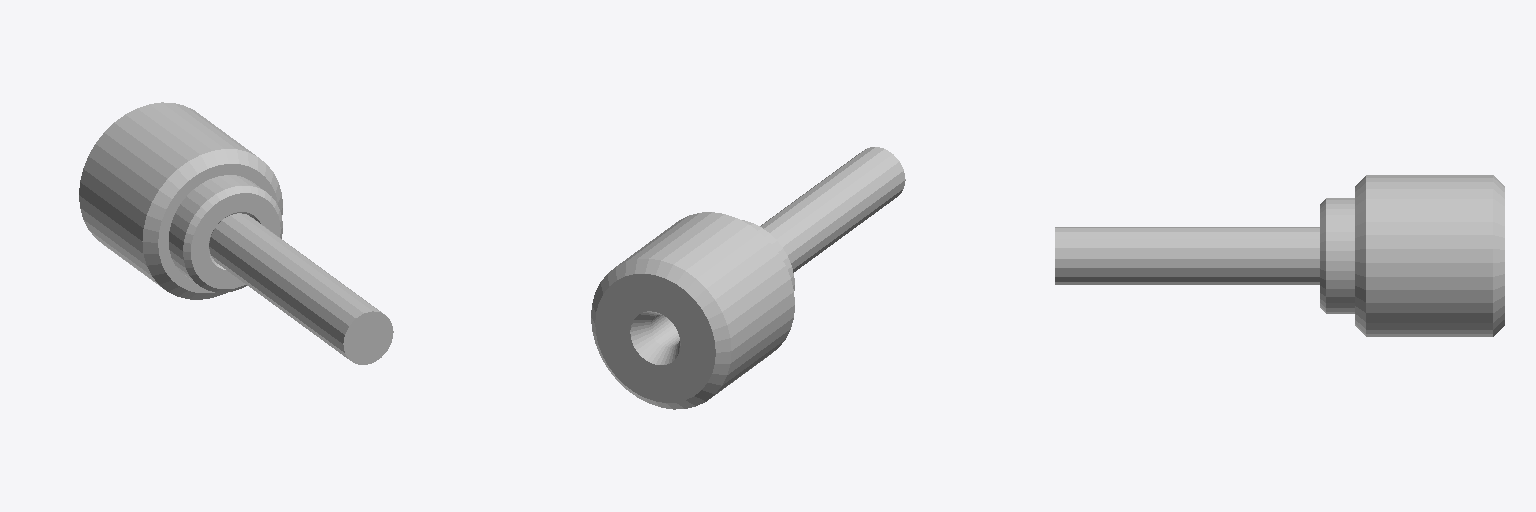
Rendered from PT1B_Screw.obj.
3 views of the same model, side by side, from view 1: azimuth 30°, elevation 25°; view 2: azimuth 150°, elevation 25°; view 3: azimuth 270°, elevation 25° (orthographic).
Visible parts, largest first — view 1: pCylinder62 group143; view 2: pCylinder62 group143; view 3: pCylinder62 group143.
Boxes of the visible parts, box(x1,y1,x2,y2) form: pCylinder62 group143: box(79, 102, 393, 364); pCylinder62 group143: box(591, 147, 905, 409); pCylinder62 group143: box(1055, 175, 1504, 336).
Size of the model in its own units: 17.88 by 17.88 by 49.53.